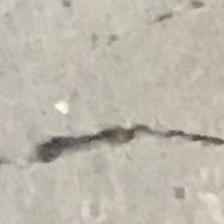Crack: (27, 100, 224, 179)
